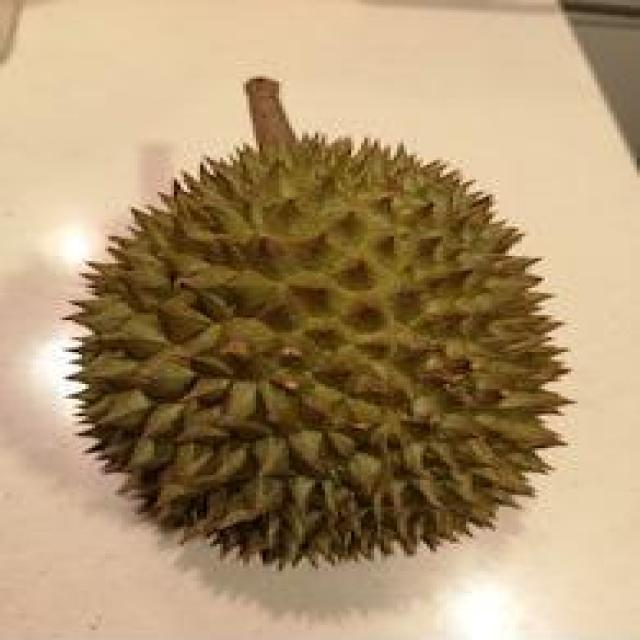mature: (70, 136, 567, 566)
